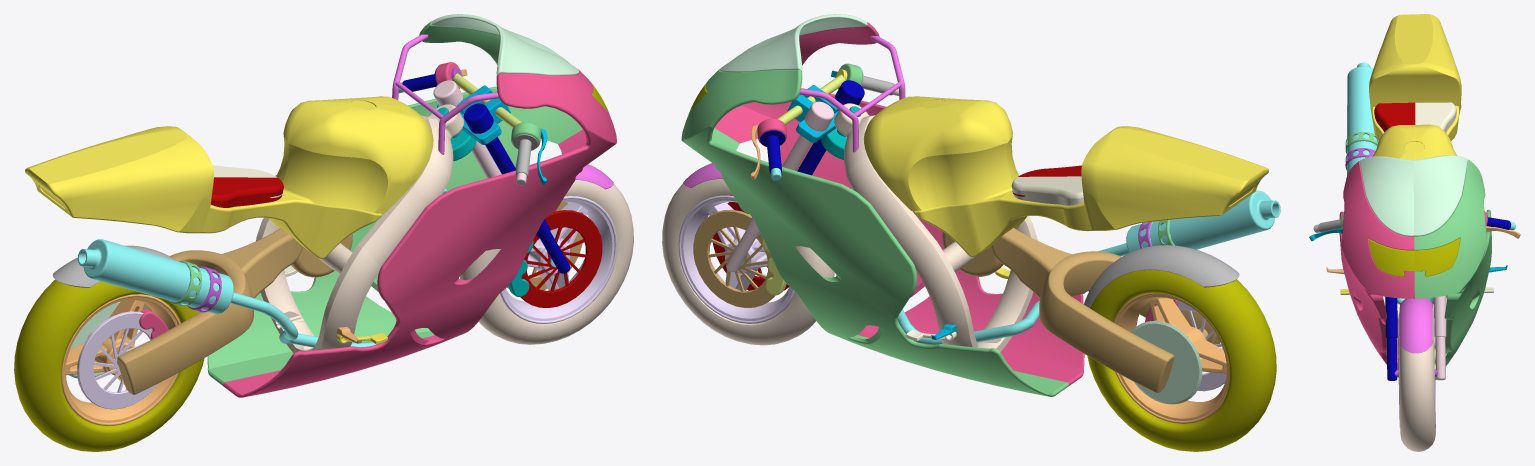
File: racing_bike_assembly.glb
The picture shows the model from 3 angles, left to right: view 1: azimuth 30°, elevation 25°; view 2: azimuth 150°, elevation 25°; view 3: azimuth 270°, elevation 25°; orthographic projection. The views are drawn at different scales.
Visible parts, largest first — view 1: User Library-racing bike_racing bike.sldasm-Part-3-1, User Library-racing bike_racing bike.sldasm-Part-46-1, User Library-racing bike_racing bike.sldasm-Part-42-1, User Library-racing bike_racing bike.sldasm-Part-47-1, User Library-racing bike_racing bike.sldasm-Part-20-1, User Library-racing bike_racing bike.sldasm-Part-25-1, User Library-racing bike_racing bike.sldasm-Part-9-1, User Library-racing bike_racing bike.sldasm-Part-43-1, User Library-racing bike_racing bike.sldasm-Part-31-1, User Library-racing bike_racing bike.sldasm-Part-38-1, User Library-racing bike_racing bike.sldasm-Part-40-1, User Library-racing bike_racing bike.sldasm-Part-2-1 (+10 smaller); view 2: User Library-racing bike_racing bike.sldasm-Part-3-1, User Library-racing bike_racing bike.sldasm-Part-47-1, User Library-racing bike_racing bike.sldasm-Part-42-1, User Library-racing bike_racing bike.sldasm-Part-20-1, User Library-racing bike_racing bike.sldasm-Part-46-1, User Library-racing bike_racing bike.sldasm-Part-25-1, User Library-racing bike_racing bike.sldasm-Part-43-1, User Library-racing bike_racing bike.sldasm-Part-9-1, User Library-racing bike_racing bike.sldasm-Part-31-1, User Library-racing bike_racing bike.sldasm-Part-38-1, User Library-racing bike_racing bike.sldasm-Part-39-1, User Library-racing bike_racing bike.sldasm-Part-27-1 (+9 smaller); view 3: User Library-racing bike_racing bike.sldasm-Part-3-1, User Library-racing bike_racing bike.sldasm-Part-47-1, User Library-racing bike_racing bike.sldasm-Part-23-1, User Library-racing bike_racing bike.sldasm-Part-46-1, User Library-racing bike_racing bike.sldasm-Part-43-1, User Library-racing bike_racing bike.sldasm-Part-24-1, User Library-racing bike_racing bike.sldasm-Part-9-1, User Library-racing bike_racing bike.sldasm-Part-34-1, User Library-racing bike_racing bike.sldasm-Part-21-1, User Library-racing bike_racing bike.sldasm-Part-22-1, User Library-racing bike_racing bike.sldasm-Part-36-1, User Library-racing bike_racing bike.sldasm-Part-26-1 (+5 smaller).
Part boxes in pixels (left/top/right/bottom): User Library-racing bike_racing bike.sldasm-Part-3-1: left=25, top=96, right=433, bottom=258; User Library-racing bike_racing bike.sldasm-Part-46-1: left=223, top=69, right=616, bottom=397; User Library-racing bike_racing bike.sldasm-Part-42-1: left=14, top=279, right=204, bottom=451; User Library-racing bike_racing bike.sldasm-Part-47-1: left=207, top=21, right=582, bottom=385; User Library-racing bike_racing bike.sldasm-Part-20-1: left=88, top=228, right=352, bottom=394; User Library-racing bike_racing bike.sldasm-Part-25-1: left=256, top=104, right=463, bottom=352; User Library-racing bike_racing bike.sldasm-Part-9-1: left=77, top=188, right=447, bottom=347; User Library-racing bike_racing bike.sldasm-Part-43-1: left=460, top=180, right=633, bottom=344; User Library-racing bike_racing bike.sldasm-Part-31-1: left=61, top=294, right=180, bottom=425; User Library-racing bike_racing bike.sldasm-Part-38-1: left=500, top=196, right=617, bottom=323; User Library-racing bike_racing bike.sldasm-Part-40-1: left=520, top=210, right=602, bottom=307; User Library-racing bike_racing bike.sldasm-Part-2-1: left=77, top=311, right=157, bottom=409; User Library-racing bike_racing bike.sldasm-Part-3-1: left=863, top=96, right=1268, bottom=257; User Library-racing bike_racing bike.sldasm-Part-47-1: left=681, top=68, right=1068, bottom=396; User Library-racing bike_racing bike.sldasm-Part-42-1: left=1087, top=270, right=1276, bottom=451; User Library-racing bike_racing bike.sldasm-Part-20-1: left=942, top=228, right=1220, bottom=392; User Library-racing bike_racing bike.sldasm-Part-46-1: left=714, top=22, right=1084, bottom=385; User Library-racing bike_racing bike.sldasm-Part-25-1: left=834, top=103, right=1037, bottom=351; User Library-racing bike_racing bike.sldasm-Part-43-1: left=662, top=179, right=834, bottom=345; User Library-racing bike_racing bike.sldasm-Part-9-1: left=850, top=187, right=1280, bottom=344; User Library-racing bike_racing bike.sldasm-Part-31-1: left=1113, top=293, right=1229, bottom=423; User Library-racing bike_racing bike.sldasm-Part-38-1: left=678, top=195, right=794, bottom=323; User Library-racing bike_racing bike.sldasm-Part-39-1: left=693, top=209, right=775, bottom=307; User Library-racing bike_racing bike.sldasm-Part-27-1: left=1083, top=245, right=1239, bottom=307; User Library-racing bike_racing bike.sldasm-Part-3-1: left=1369, top=14, right=1461, bottom=159; User Library-racing bike_racing bike.sldasm-Part-47-1: left=1414, top=159, right=1491, bottom=366; User Library-racing bike_racing bike.sldasm-Part-23-1: left=1359, top=155, right=1467, bottom=236; User Library-racing bike_racing bike.sldasm-Part-46-1: left=1339, top=161, right=1414, bottom=369; User Library-racing bike_racing bike.sldasm-Part-43-1: left=1399, top=308, right=1435, bottom=451; User Library-racing bike_racing bike.sldasm-Part-24-1: left=1368, top=237, right=1460, bottom=276; User Library-racing bike_racing bike.sldasm-Part-9-1: left=1346, top=62, right=1433, bottom=304; User Library-racing bike_racing bike.sldasm-Part-34-1: left=1399, top=298, right=1432, bottom=353; User Library-racing bike_racing bike.sldasm-Part-21-1: left=1415, top=102, right=1456, bottom=132; User Library-racing bike_racing bike.sldasm-Part-22-1: left=1374, top=102, right=1415, bottom=131; User Library-racing bike_racing bike.sldasm-Part-36-1: left=1434, top=295, right=1446, bottom=380; User Library-racing bike_racing bike.sldasm-Part-26-1: left=1385, top=296, right=1397, bottom=380.
Size of the model in its own units: 0.1382 by 0.0715 by 0.0518.
